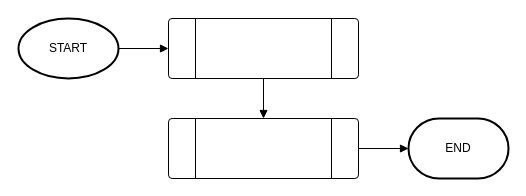
The diagram is 526 pixels wide and 196 high, and some of its shapes have lost their labels. Each missing label, with the centre of its shape:
"gedcom-txt-to-xml" belongs at point 263,48.
"gedcom-xml-to-sapling" belongs at point 263,148.
